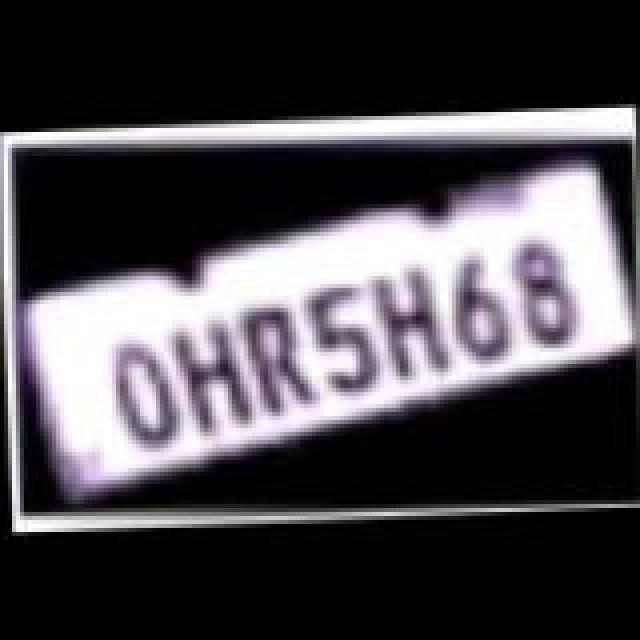5: (292, 278, 392, 398)
6: (428, 248, 528, 368)
8: (494, 228, 590, 348)
H: (356, 260, 464, 384), (160, 312, 264, 436)
O: (96, 336, 192, 452)
R: (226, 298, 326, 422)
